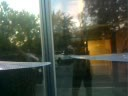window: (0, 11, 39, 96), (46, 46, 66, 63), (44, 83, 68, 96), (90, 62, 99, 74), (93, 90, 107, 96)
